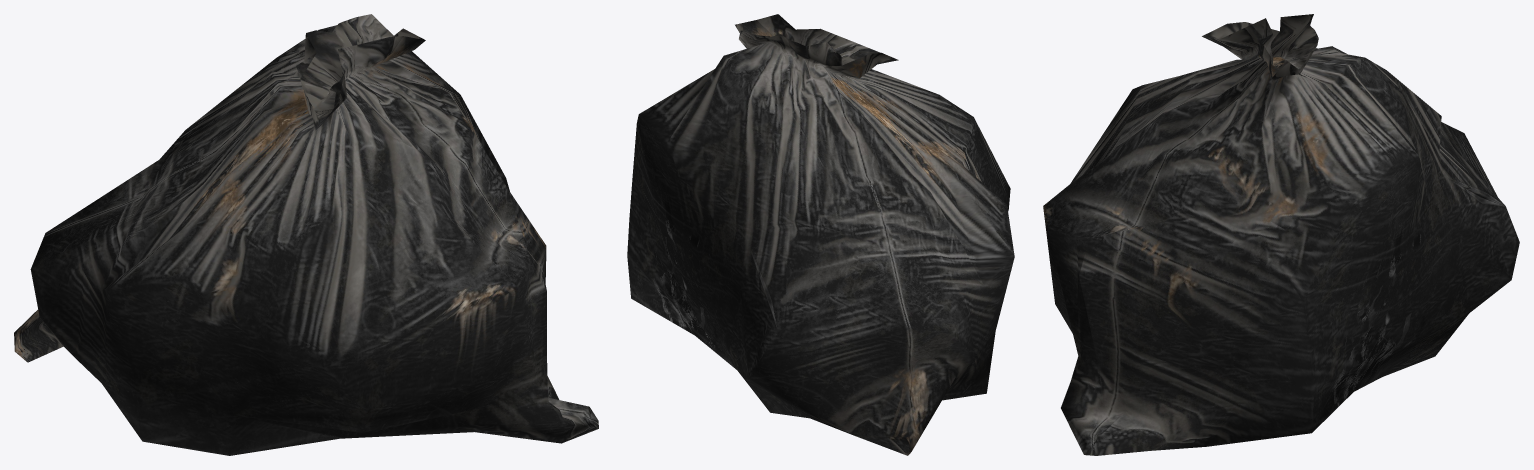
File: Trashbag.fbx
3 views of the same model, side by side, from view 1: azimuth 30°, elevation 25°; view 2: azimuth 150°, elevation 25°; view 3: azimuth 270°, elevation 25° (orthographic). The views are drawn at different scales.
Visible parts, largest first — view 1: trash_bag001.014; view 2: trash_bag001.014; view 3: trash_bag001.014.
Part boxes in pixels (bbox=[...]): trash_bag001.014: bbox=[14, 14, 598, 455]; trash_bag001.014: bbox=[627, 14, 1014, 455]; trash_bag001.014: bbox=[1043, 14, 1519, 455].
Bounding box in the file's own units: 117 × 95.78 × 114.
Materials: 1 (1 with a texture image).
